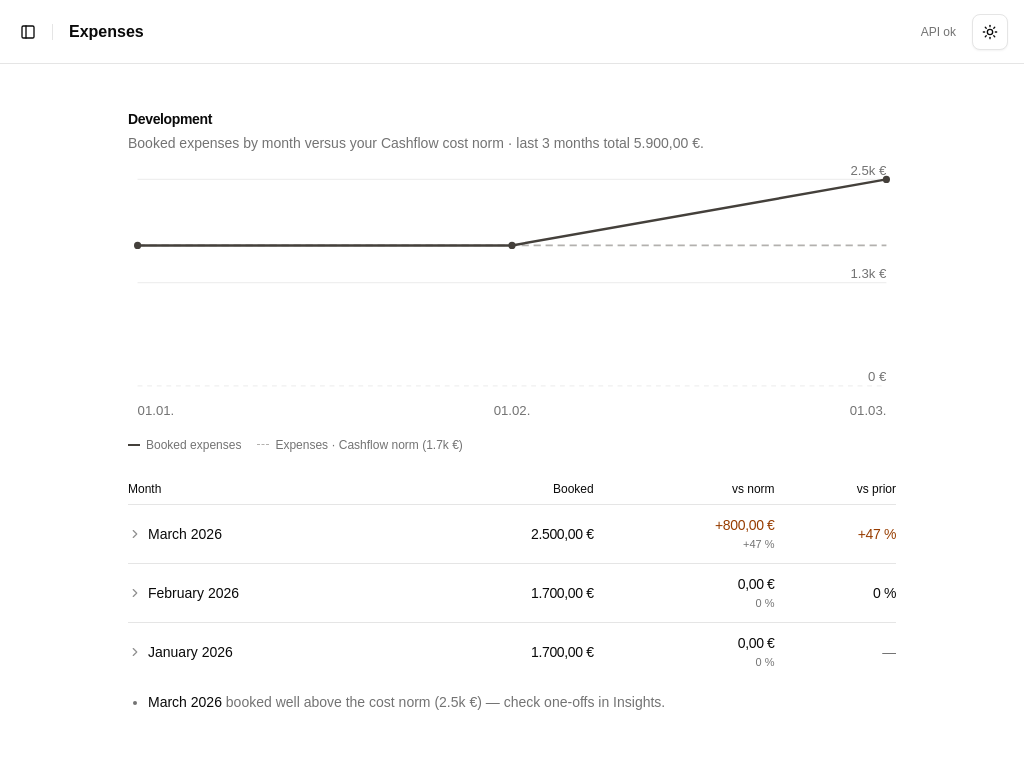
Scenario: Baseline expenses page › expands a development month to show top expenses
(page scrolled)
Click the button "March 2026" at (175, 534), box left=128, top=524, right=222, bottom=544
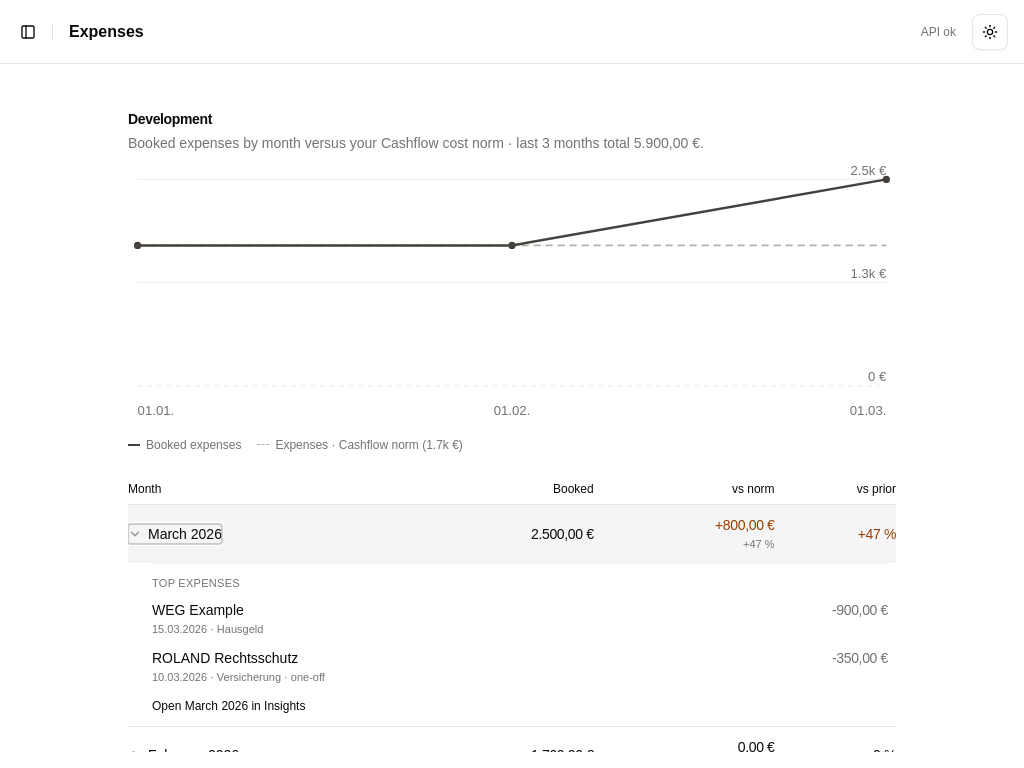
Check: the text "WEG Example" is shown, box left=152, top=602, right=244, bottom=618
Check: the text "ROLAND Rechtsschutz" is shown, box left=152, top=650, right=298, bottom=666
Check: the text "10.03.2026 · Versicherung · one-off" is shown, box left=152, top=670, right=325, bottom=686
